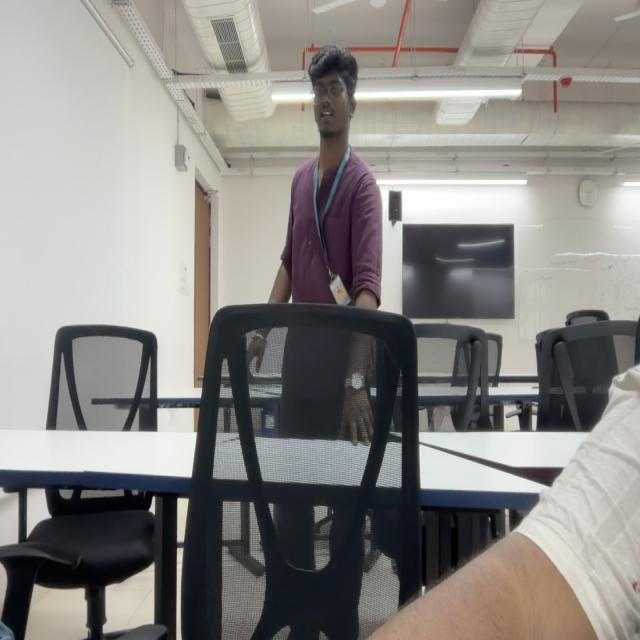ravindra: (308, 44, 360, 140)
